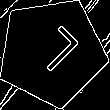L_SW: (23, 23, 81, 81)
